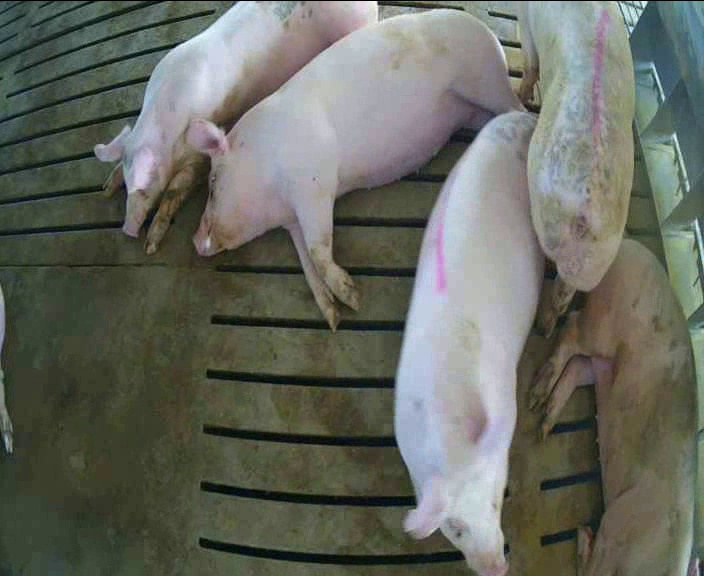pig: (189, 10, 519, 328), (94, 2, 375, 252), (395, 112, 542, 574), (530, 239, 695, 575), (518, 3, 633, 332)
